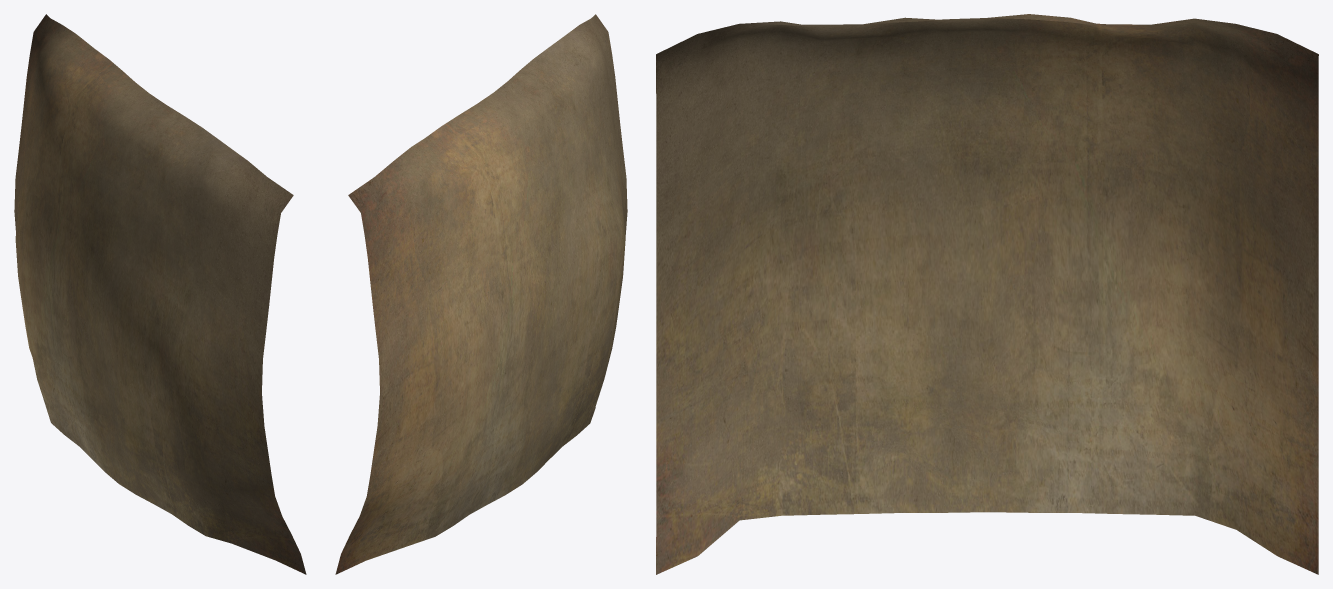
File: Bateau_Voile.fbx
3 views of the same model, side by side, from view 1: azimuth 30°, elevation 25°; view 2: azimuth 150°, elevation 25°; view 3: azimuth 270°, elevation 25° (orthographic). The views are drawn at different scales.
Parts seen in each view (by area): view 1: polySurface3; view 2: polySurface3; view 3: polySurface3.
Part boxes in pixels (left/top/right/bottom): polySurface3: left=14, top=14, right=306, bottom=574; polySurface3: left=335, top=14, right=627, bottom=574; polySurface3: left=656, top=14, right=1318, bottom=574.
Size of the model in its own units: 1.09 by 4.46 by 4.99.
Materials: 1 (1 with a texture image).
